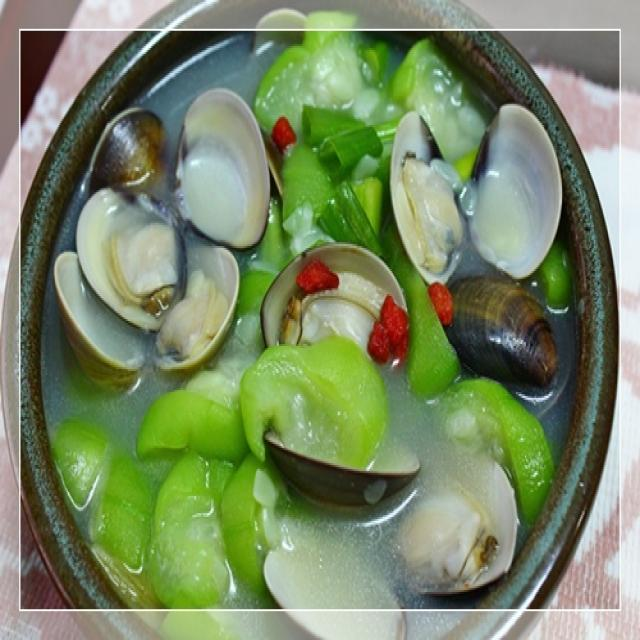Wet: (69, 0, 531, 587)
